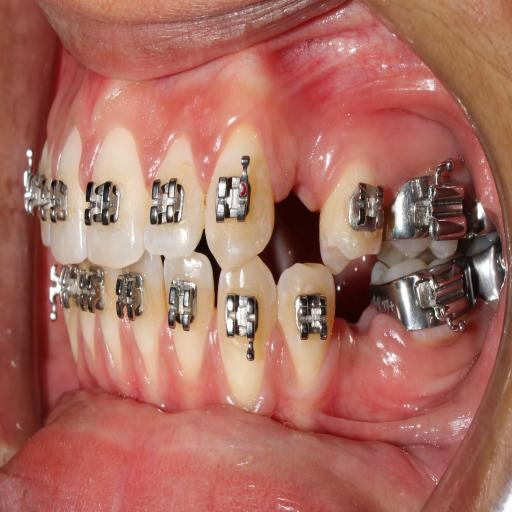correct_brace: (315, 158, 384, 271), (84, 171, 120, 231), (149, 174, 185, 232), (214, 172, 250, 224)
incorrect_brace: (148, 136, 204, 258), (349, 176, 385, 232)
